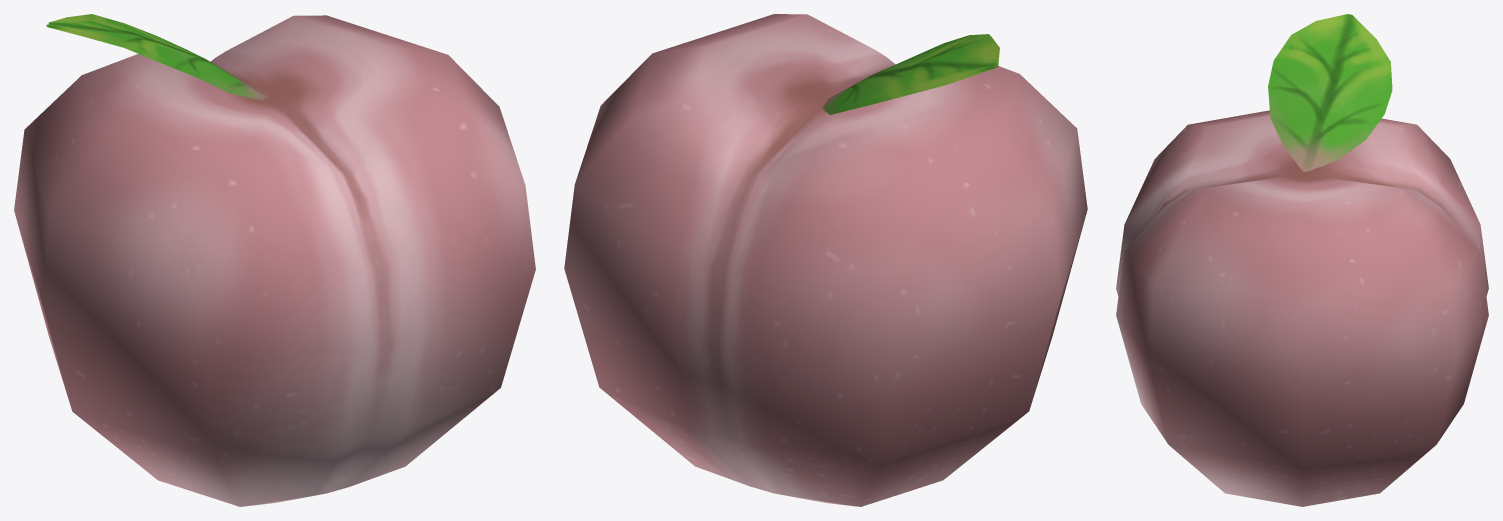
Rendered from peach-japanese.fbx.
The picture shows the model from 3 angles, left to right: view 1: azimuth 30°, elevation 25°; view 2: azimuth 150°, elevation 25°; view 3: azimuth 270°, elevation 25°; orthographic projection. The views are drawn at different scales.
Parts seen in each view (by area): view 1: peach-japanese; view 2: peach-japanese; view 3: peach-japanese.
Part boxes in pixels (x1,y1,x2,y2): peach-japanese: (14,14,535,506); peach-japanese: (564,14,1087,506); peach-japanese: (1116,14,1488,506).
Bounding box in the file's own units: 1.87 × 1.93 × 1.59.
